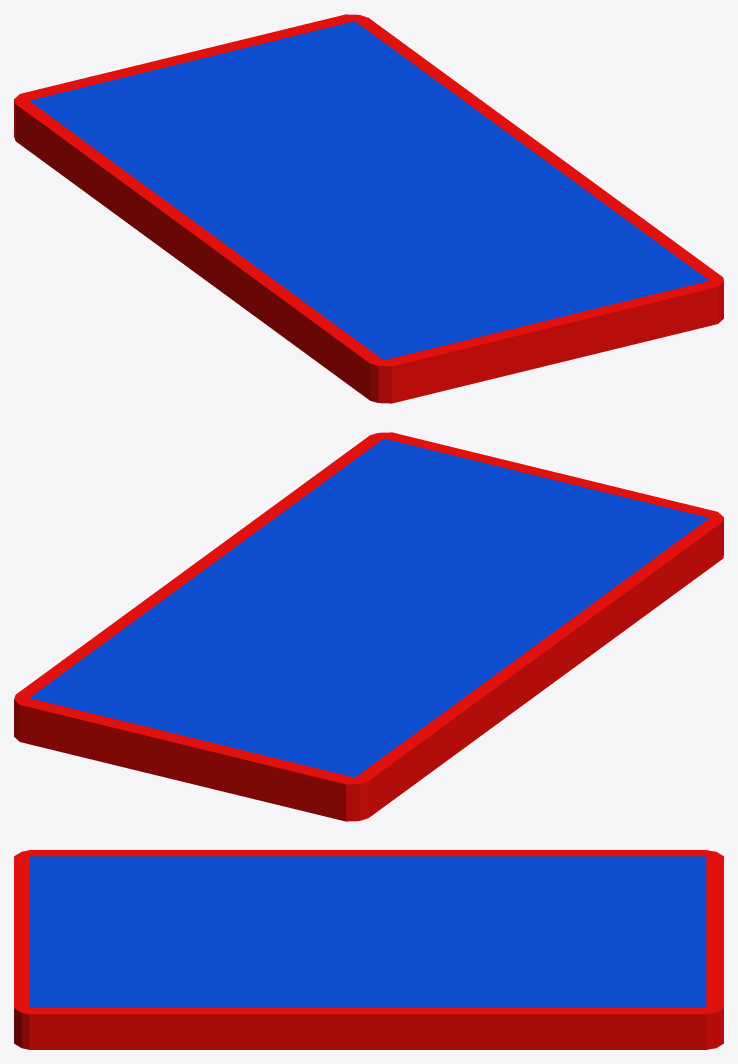
File: iPhone.fbx
The picture shows the model from 3 angles, top to bottom: view 1: azimuth 30°, elevation 25°; view 2: azimuth 150°, elevation 25°; view 3: azimuth 270°, elevation 25°; orthographic projection. The views are drawn at different scales.
Parts seen in each view (by area): view 1: iPhone; view 2: iPhone; view 3: iPhone.
Boxes of the visible parts, bbox=[...] form: iPhone: bbox=[14, 14, 723, 403]; iPhone: bbox=[14, 432, 723, 821]; iPhone: bbox=[14, 850, 723, 1049].
Bounding box in the file's own units: 10.96 × 1.1 × 20.
